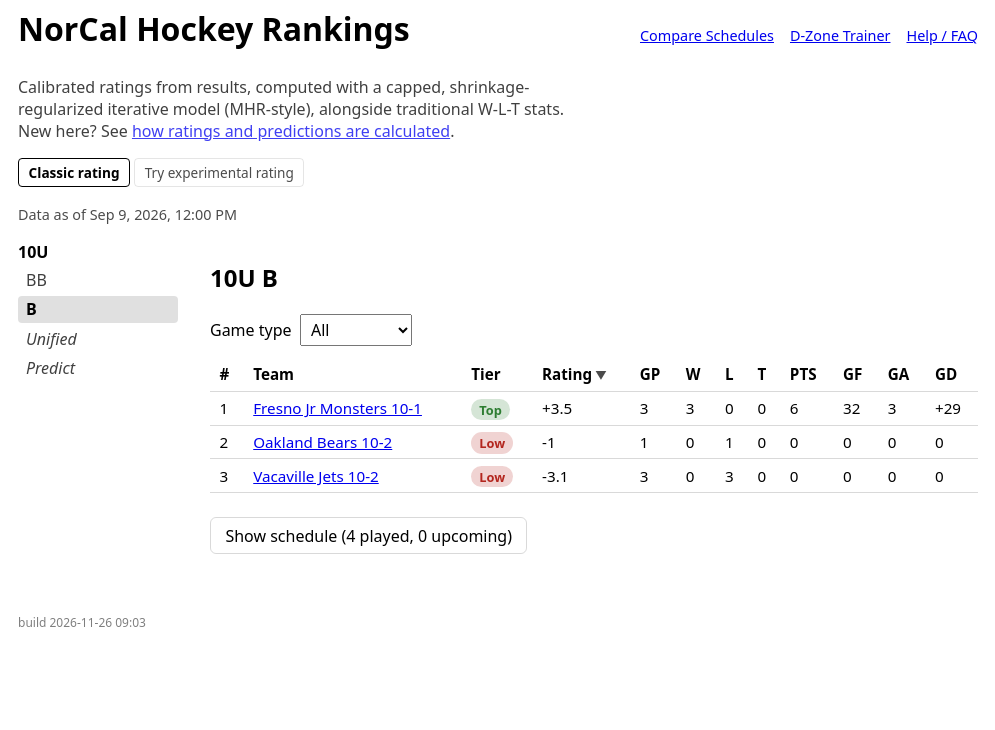
Test: App › uses the experimental rating for predictions when the site-wide toggle is on
The width and height of the screenshot is (995, 730).
Expected: the link "Fresno Jr Monsters 10-1" is shown, [253,398,422,418]
Click the link "Predict" at (51, 368), box [26,357,75,379]
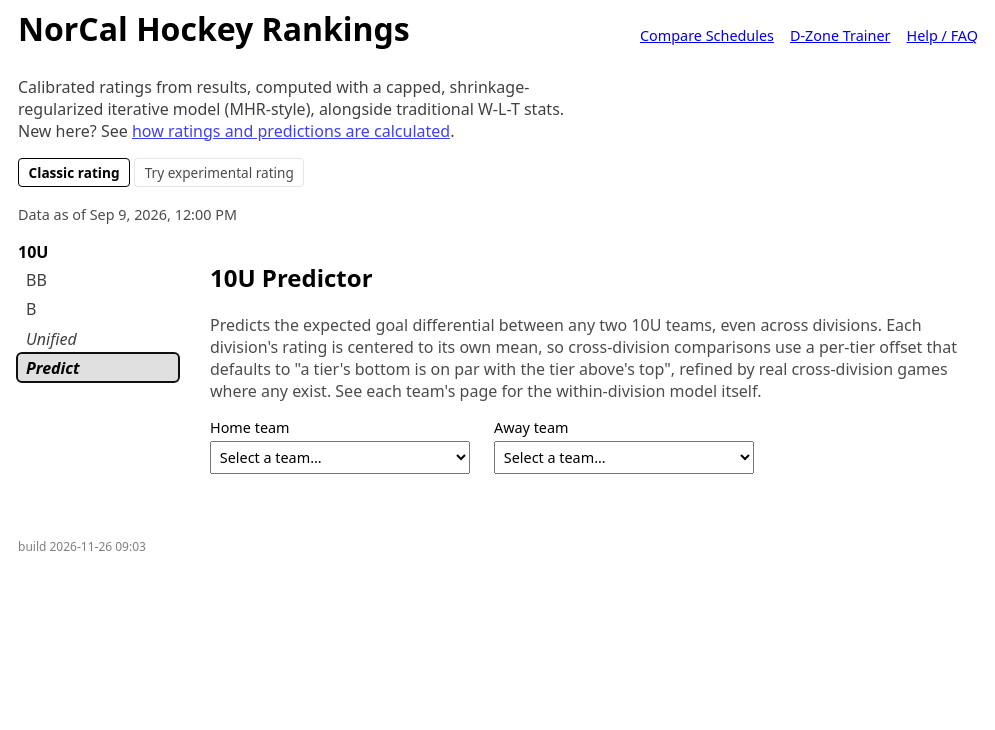
Expected: the heading "10U Predictor" is shown, [210,261,372,294]
Select "Fresno Jr Monsters 10-1" in the dropdown labelled "Home team" at (340, 458), box [210,442,470,474]
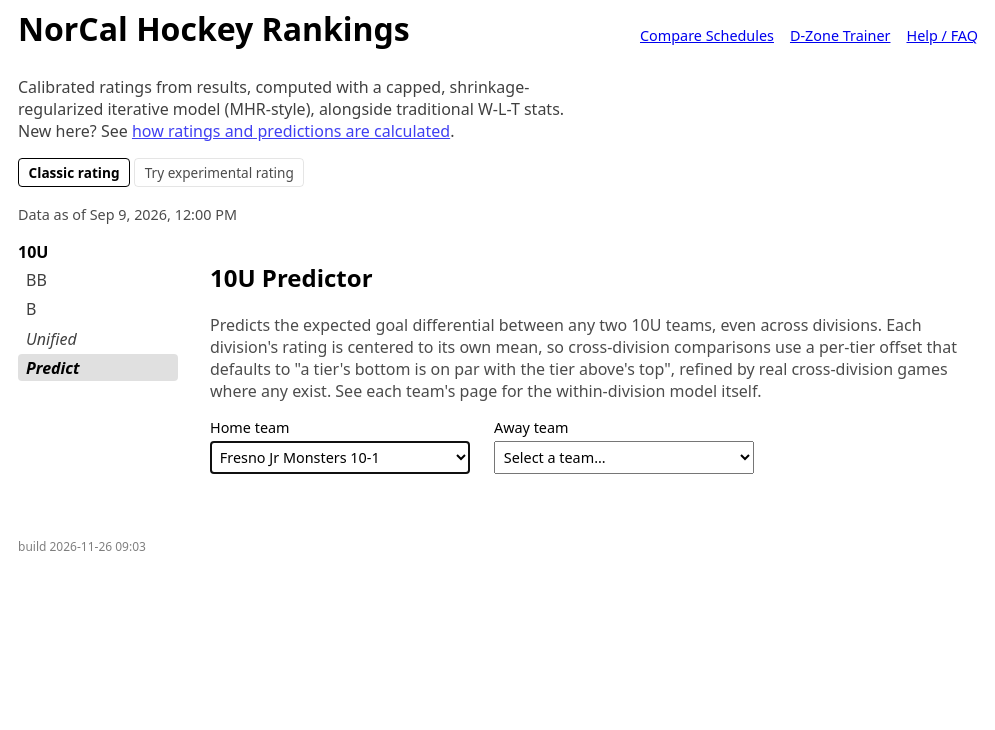
Select "Vacaville Jets 10-2" in the dropdown labelled "Away team" at (624, 458), box [494,442,754,474]
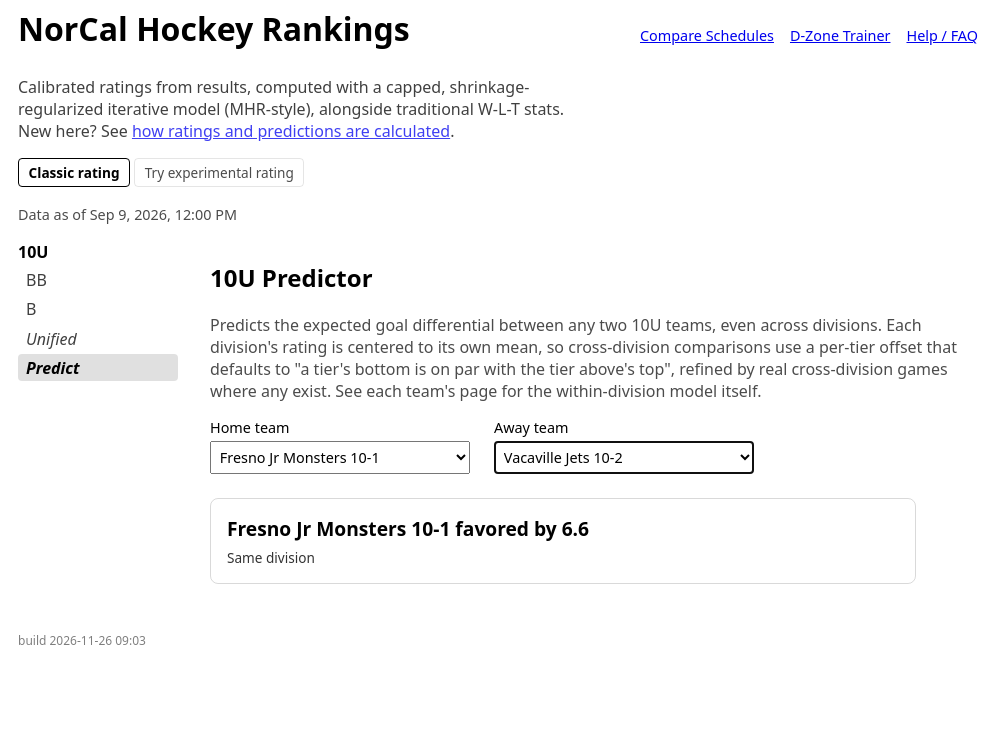
Expected: the text "Fresno Jr Monsters 10-1 favored by 6.6" is shown, [227,515,589,542]
Click the button "Try experimental rating" at (219, 172), box [134,158,304,187]
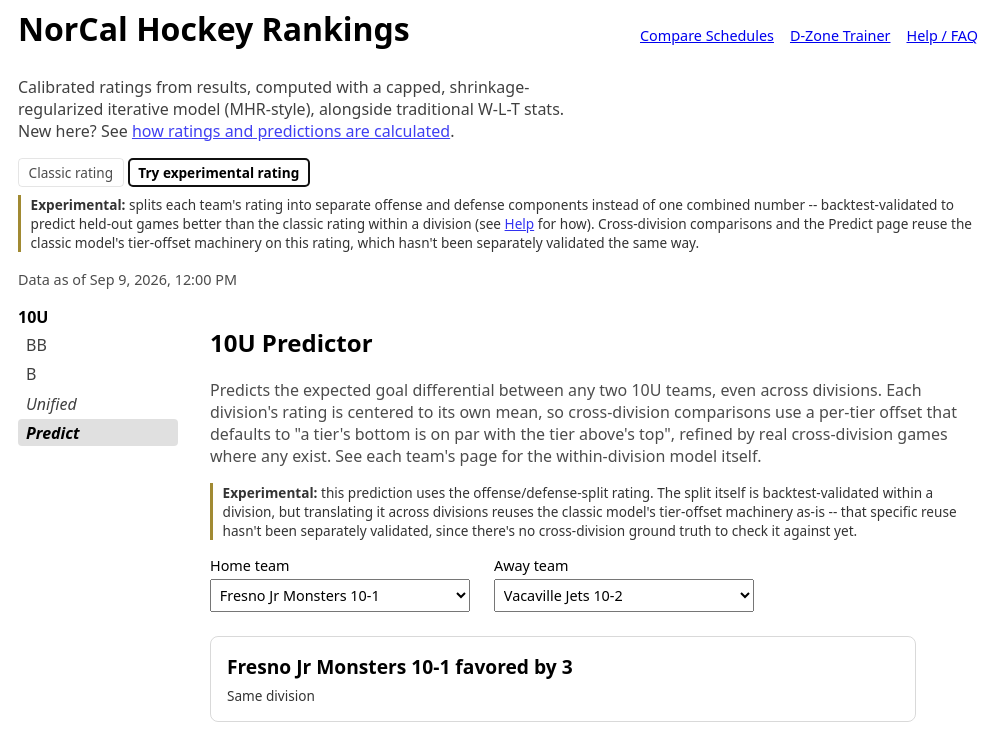
Expected: the text "Fresno Jr Monsters 10-1 favored by 3" is shown, [227,653,573,680]
Expected: the text "reuses the classic model's tier-offset machinery" is shown, [223,483,957,540]
